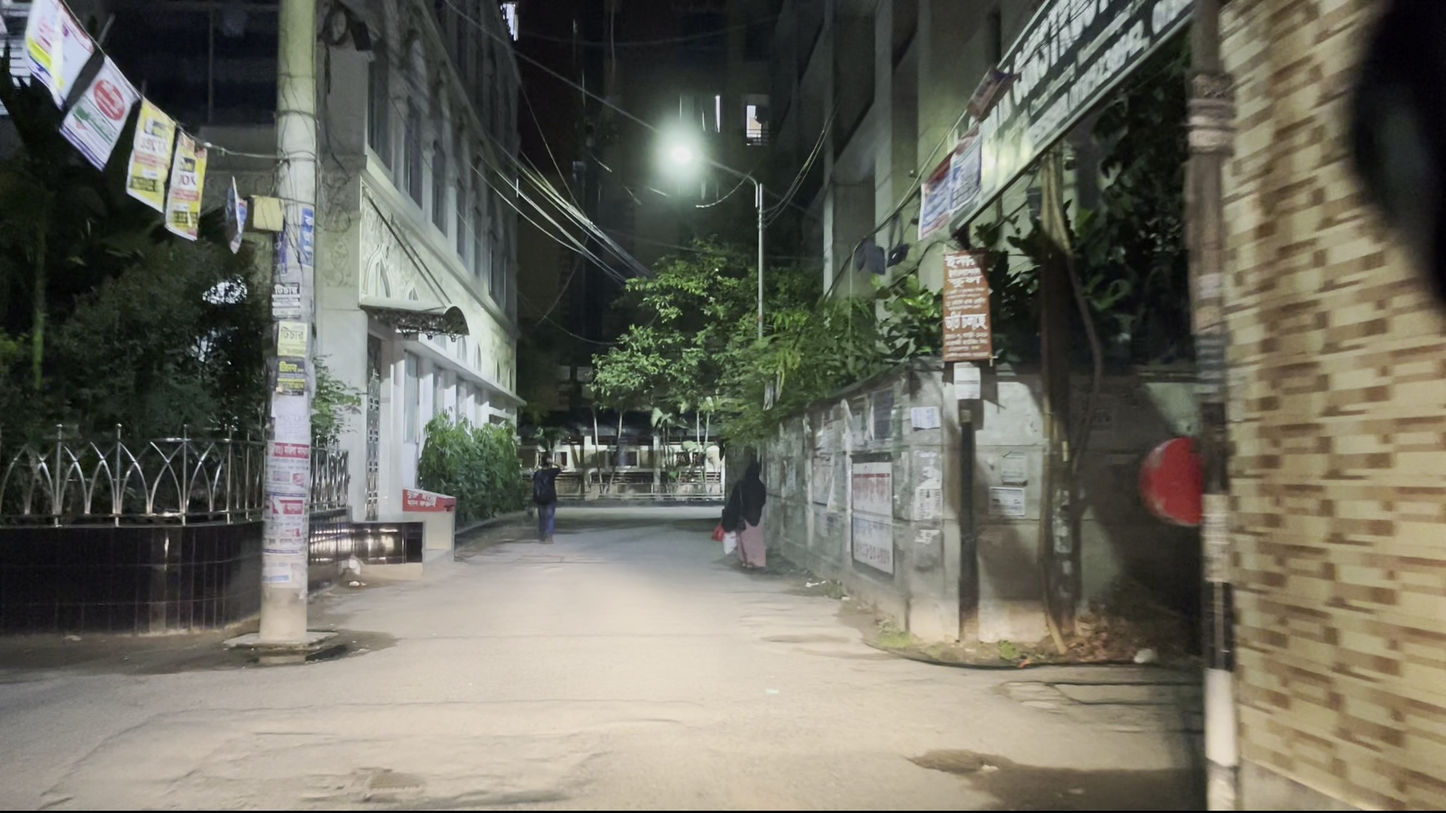person: (712, 442, 768, 580), (526, 440, 572, 547)
